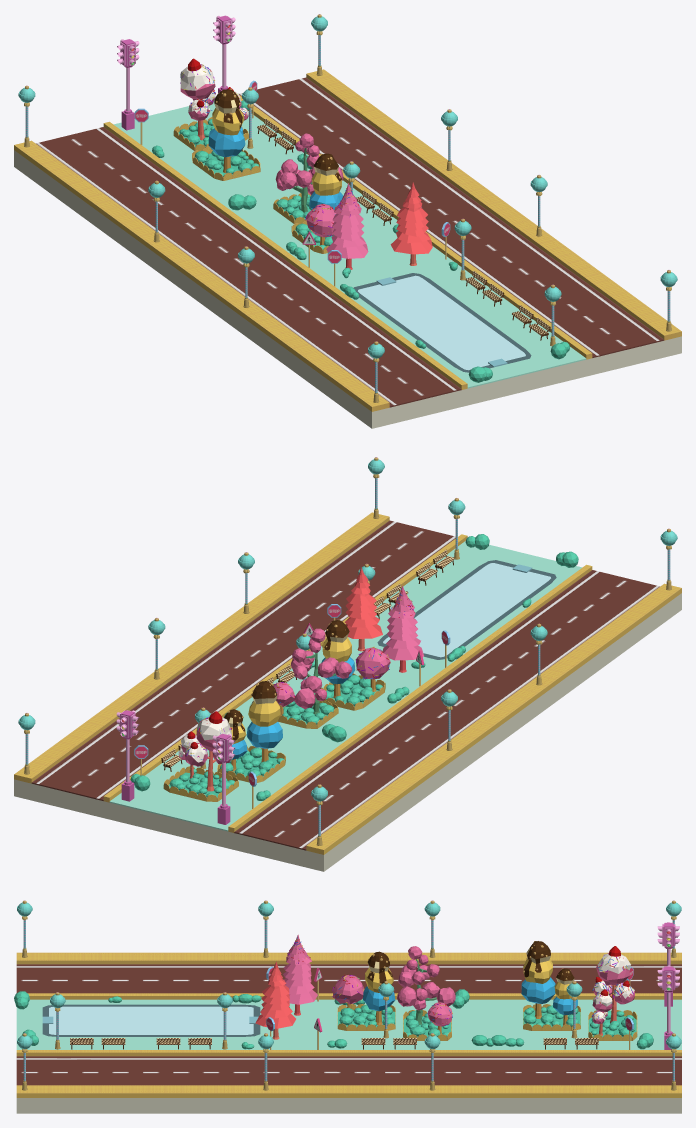
The model's file is D2_STREET.fbx.
3 views of the same model, one above another, from view 1: azimuth 30°, elevation 25°; view 2: azimuth 150°, elevation 25°; view 3: azimuth 270°, elevation 25° (orthographic). The views are drawn at different scales.
Parts seen in each view (by area): view 1: D2_STREET; view 2: D2_STREET; view 3: D2_STREET.
Boxes of the visible parts, x1,y1,x2,y2 form: D2_STREET: [14, 14, 681, 428]; D2_STREET: [14, 457, 681, 871]; D2_STREET: [14, 900, 681, 1113].
Bounding box in the file's own units: 2787 × 894 × 5598.
46 materials, 8 textured.
